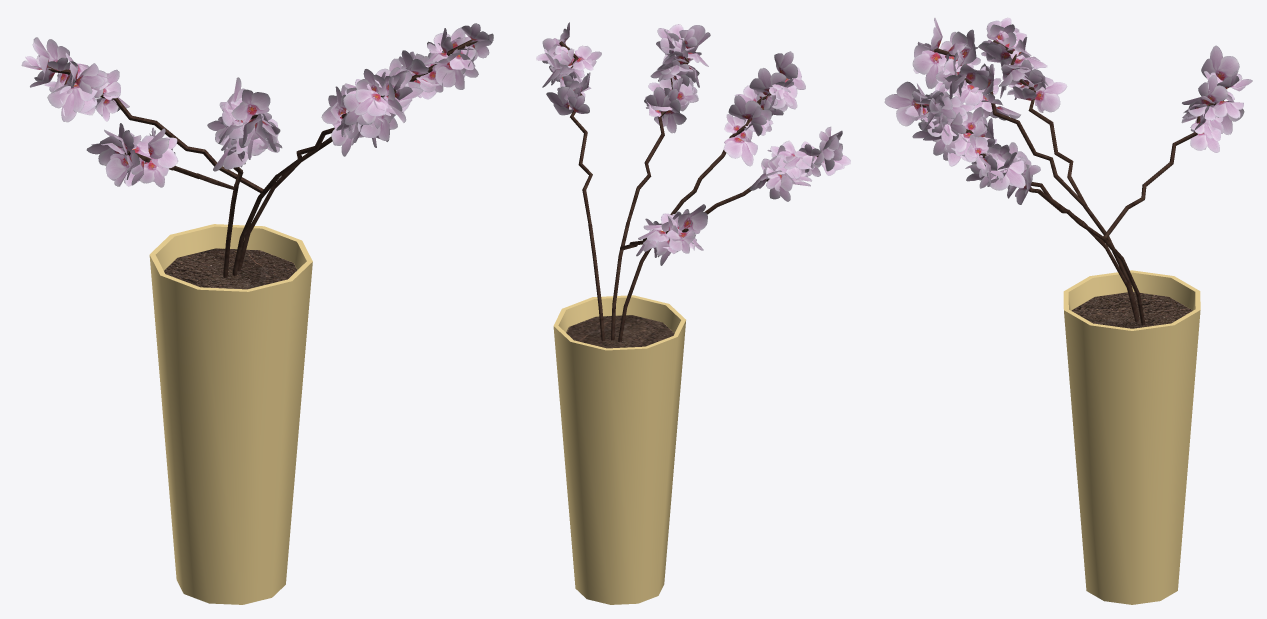
The model's file is RY_PotBig.fbx.
3 views of the same model, side by side, from view 1: azimuth 30°, elevation 25°; view 2: azimuth 150°, elevation 25°; view 3: azimuth 270°, elevation 25° (orthographic). The views are drawn at different scales.
Visible parts, largest first — view 1: PotBig; view 2: PotBig; view 3: PotBig.
Part boxes in pixels (x1,y1,x2,y2): PotBig: (21,23,493,604); PotBig: (536,22,850,604); PotBig: (884,17,1252,604).
Size of the model in its own units: 0.9622 by 1.38 by 0.88.
